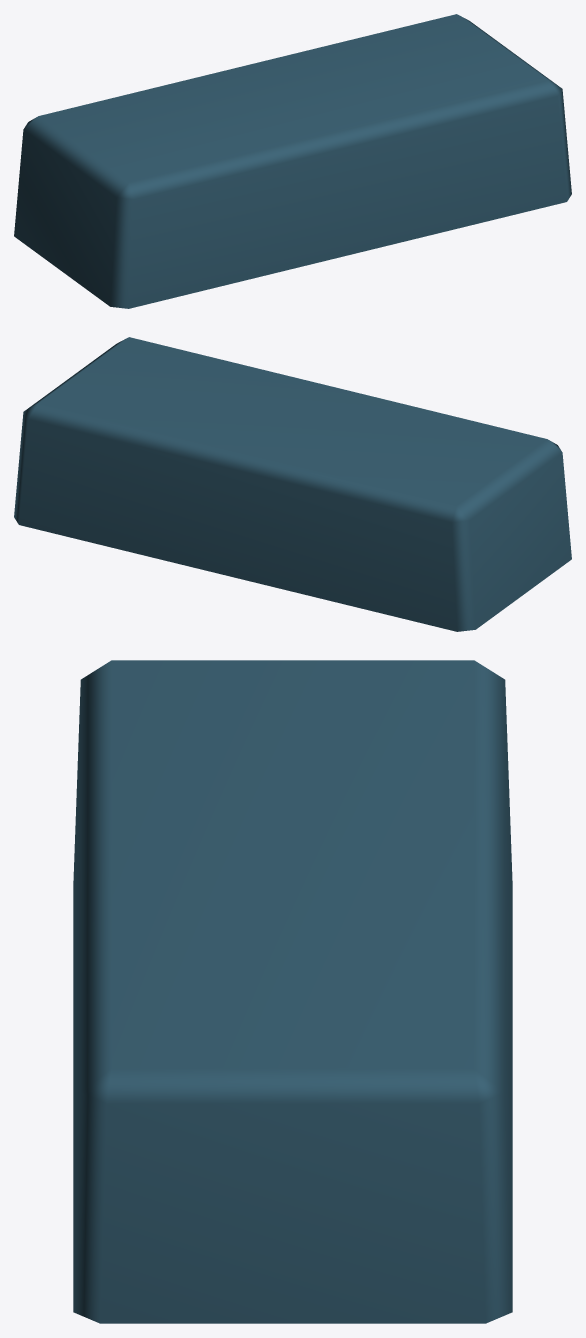
File: SM_MicStove_01_Button_03.fbx
3 views of the same model, one above another, from view 1: azimuth 30°, elevation 25°; view 2: azimuth 150°, elevation 25°; view 3: azimuth 270°, elevation 25° (orthographic). The views are drawn at different scales.
Visible parts, largest first — view 1: SM_MicStove_01_Button_03; view 2: SM_MicStove_01_Button_03; view 3: SM_MicStove_01_Button_03.
Part boxes in pixels (x1,y1,x2,y2): SM_MicStove_01_Button_03: (14, 14, 571, 308); SM_MicStove_01_Button_03: (14, 337, 571, 631); SM_MicStove_01_Button_03: (73, 660, 512, 1323).
Size of the model in its own units: 4.88 by 1.18 by 2.01.
